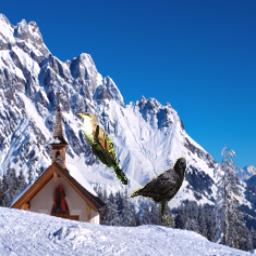Crow: (127, 158, 186, 228)
Cuckoo: (75, 111, 127, 185)
